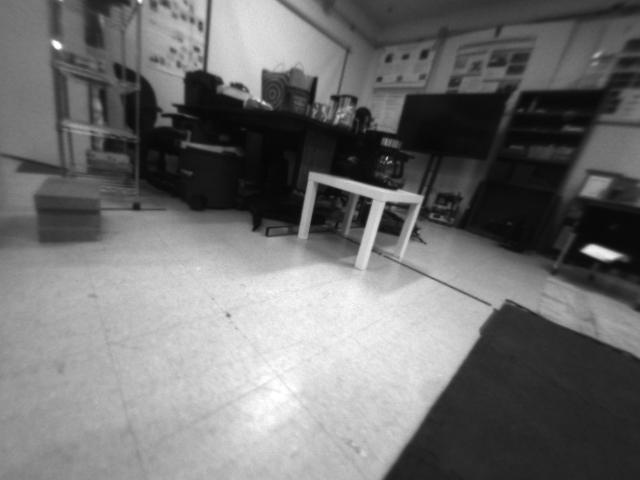coffee_pot: (359, 127, 409, 192)
